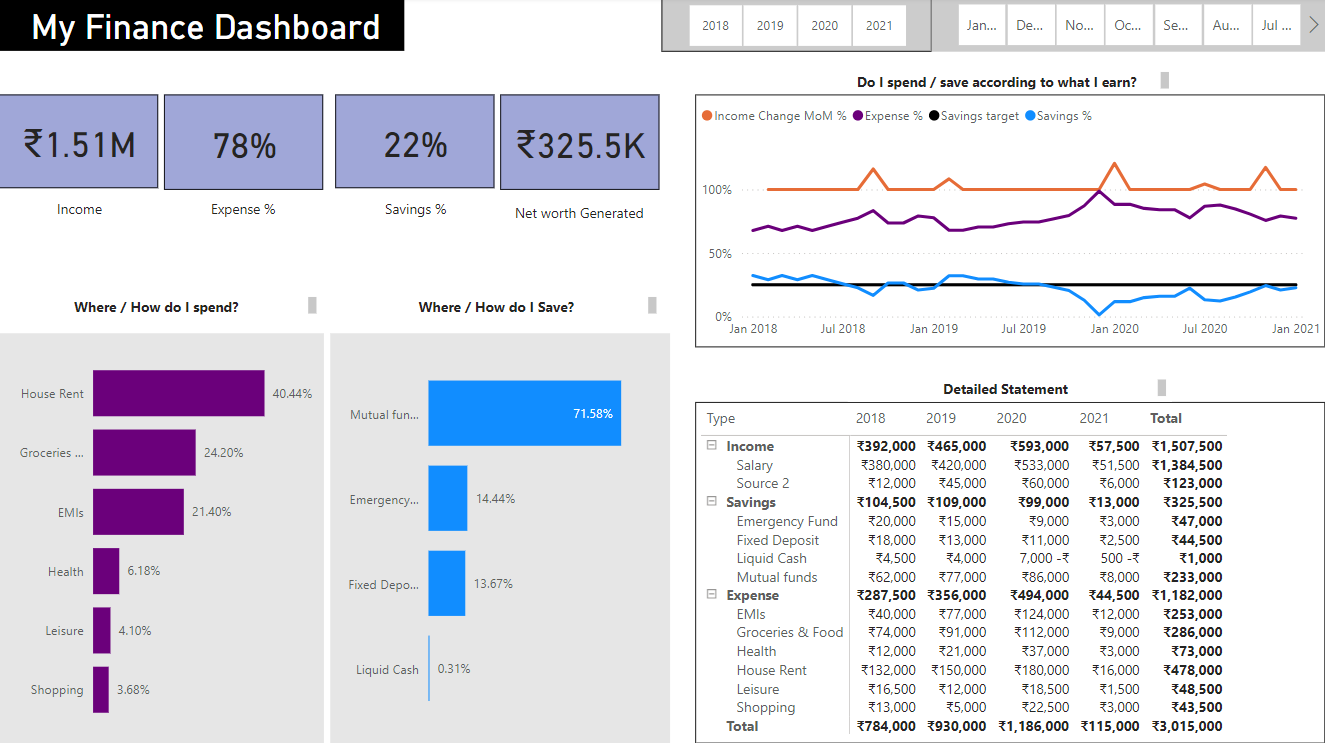

The dashboard page shown, as its layout file describes it:
{"tool":"powerbi","page":{"name":"Fin Dashboard","canvas":[1280,720],"ordinal":0},"visuals":[{"type":"card","fields":{"Values":["Key Measures.Total Income"]},"box":[0,94.1,153.5,90.5],"z":0,"group":"g1"},{"type":"slicer","fields":{"Values":["FinData.Year"]},"box":[639.4,0,260.6,53.1],"z":0},{"type":"card","fields":{"Values":["Key Measures.Expense %"]},"box":[158.9,94.1,153.5,91.7],"z":1000,"group":"g1"},{"type":"slicer","fields":{"Values":["FinData.Date"]},"box":[900,0,380,53.1],"z":1000},{"type":"card","fields":{"Values":["Key Measures.Title"]},"box":[0,0,390.9,51.9],"z":2000},{"type":"card","fields":{"Values":["Key Measures.Savings %"]},"box":[324.6,94.1,153.5,90.5],"z":2000,"group":"g1"},{"type":"card","fields":{"Values":["Key Measures.Total Saving"]},"box":[483.5,94.1,153.5,91.7],"z":3000,"group":"g1"},{"type":"clusteredBarChart","fields":{"Category":["FinData.Component"],"Y":["Key Measures.Total Expense"]},"box":[0,324.5,313.7,395.7],"z":3000},{"type":"textbox","box":[10.8,190.6,133.3,29],"z":4000,"group":"g1"},{"type":"textbox","box":[0,284.7,311.3,26.5],"z":4000},{"type":"textbox","box":[168.4,190.6,133.3,29],"z":5000,"group":"g1"},{"type":"clusteredBarChart","fields":{"Category":["FinData.Component"],"Y":["Key Measures.Total Saving"]},"box":[319.7,324.5,328.2,395.7],"z":5000},{"type":"textbox","box":[335.4,190.6,133.3,29],"z":6000,"group":"g1"},{"type":"textbox","box":[328.2,284.7,311.3,26.5],"z":6000},{"type":"lineChart","fields":{"Y":["Key Measures.Income Change MoM %","Key Measures.Expense %","Key Measures.Savings target","Key Measures.Savings %"],"Category":["FinData.Date"]},"box":[672,94.1,608,243.7],"z":7000},{"type":"textbox","box":[471.4,194.2,176.4,41],"z":7000,"group":"g1"},{"type":"textbox","box":[822.8,67.6,311.3,26.5],"z":8000},{"type":"pivotTable","fields":{"Values":["Key Measures.Values"],"Columns":["FinData.Year","FinData.Date"],"Rows":["Type.Type","FinData.Component"]},"box":[672,390.9,608,329.4],"z":9000},{"type":"textbox","box":[819.2,364.3,312.5,26.5],"z":10000},{"type":"group","id":"g1","title":"Group 1","box":[0,94.1,647.9,141.2],"z":11000}]}

Visuals, with their boxes in screenshot pixels (x1, y1, x2, y2), scaled from the page's 1280x720 canvas onto the 1325x743 screenshot:
card - Key Measures.Total Income: (x1=0, y1=97, x2=159, y2=190)
slicer - FinData.Year: (x1=662, y1=0, x2=932, y2=55)
card - Key Measures.Expense %: (x1=164, y1=97, x2=323, y2=192)
slicer - FinData.Date: (x1=932, y1=0, x2=1324, y2=55)
card - Key Measures.Title: (x1=0, y1=0, x2=405, y2=54)
card - Key Measures.Savings %: (x1=336, y1=97, x2=495, y2=190)
card - Key Measures.Total Saving: (x1=500, y1=97, x2=659, y2=192)
clusteredBarChart - FinData.Component x Key Measures.Total Expense: (x1=0, y1=335, x2=325, y2=742)
textbox: (x1=11, y1=197, x2=149, y2=227)
textbox: (x1=0, y1=294, x2=322, y2=321)
textbox: (x1=174, y1=197, x2=312, y2=227)
clusteredBarChart - FinData.Component x Key Measures.Total Saving: (x1=331, y1=335, x2=671, y2=742)
textbox: (x1=347, y1=197, x2=485, y2=227)
textbox: (x1=340, y1=294, x2=662, y2=321)
lineChart - Key Measures.Income Change MoM % x Key Measures.Expense %: (x1=696, y1=97, x2=1324, y2=349)
textbox: (x1=488, y1=200, x2=671, y2=243)
textbox: (x1=852, y1=70, x2=1174, y2=97)
pivotTable - Key Measures.Values x FinData.Year: (x1=696, y1=403, x2=1324, y2=742)
textbox: (x1=848, y1=376, x2=1171, y2=403)
"Group 1" group: (x1=0, y1=97, x2=671, y2=243)
